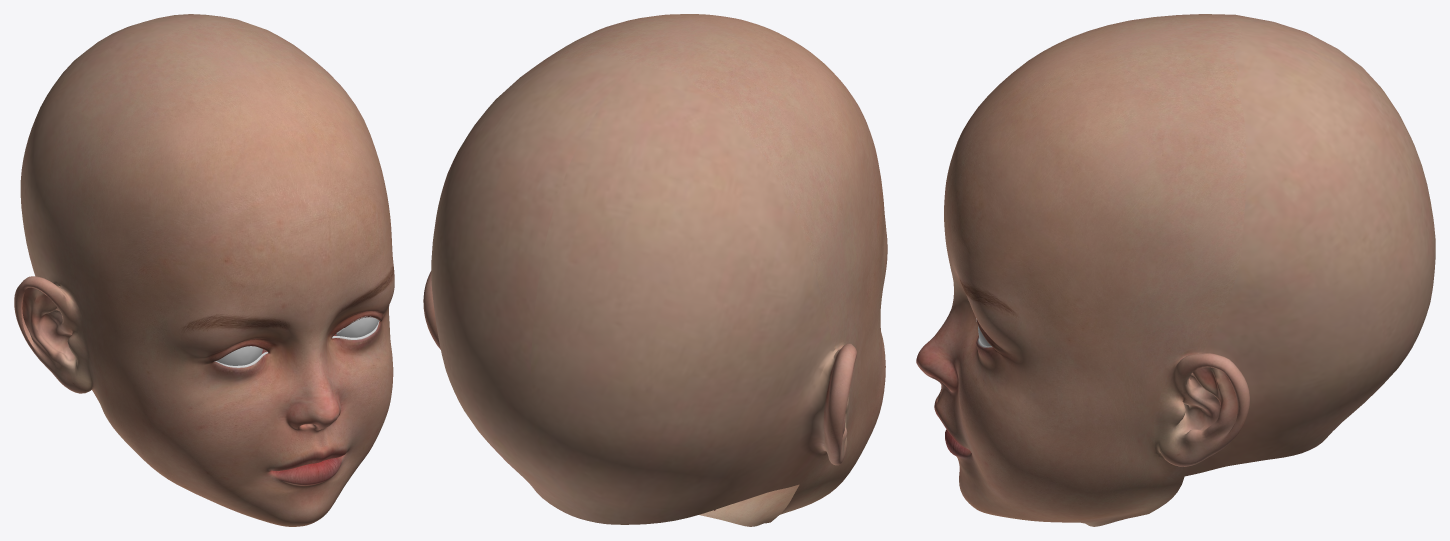
The model's file is Child.obj.
3 views of the same model, side by side, from view 1: azimuth 30°, elevation 25°; view 2: azimuth 150°, elevation 25°; view 3: azimuth 270°, elevation 25° (orthographic). The views are drawn at different scales.
Visible parts, largest first — view 1: Genesis2Female; view 2: Genesis2Female; view 3: Genesis2Female.
Part boxes in pixels (box(x1,y1,x2,y2)): Genesis2Female: box(14, 14, 394, 526); Genesis2Female: box(423, 14, 887, 526); Genesis2Female: box(916, 14, 1435, 526).
Bounding box in the file's own units: 16.6 × 19.52 × 19.
